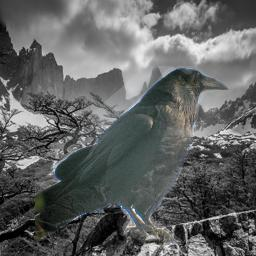Crow: (35, 66, 231, 245)
